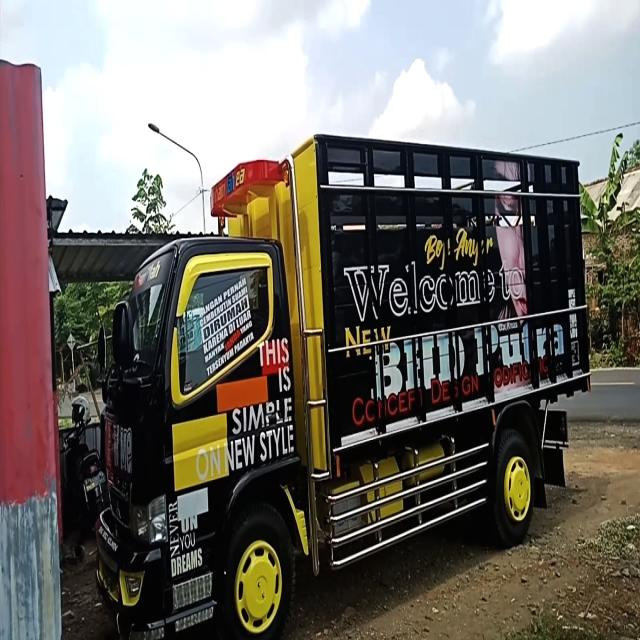truck: (86, 132, 593, 640)
